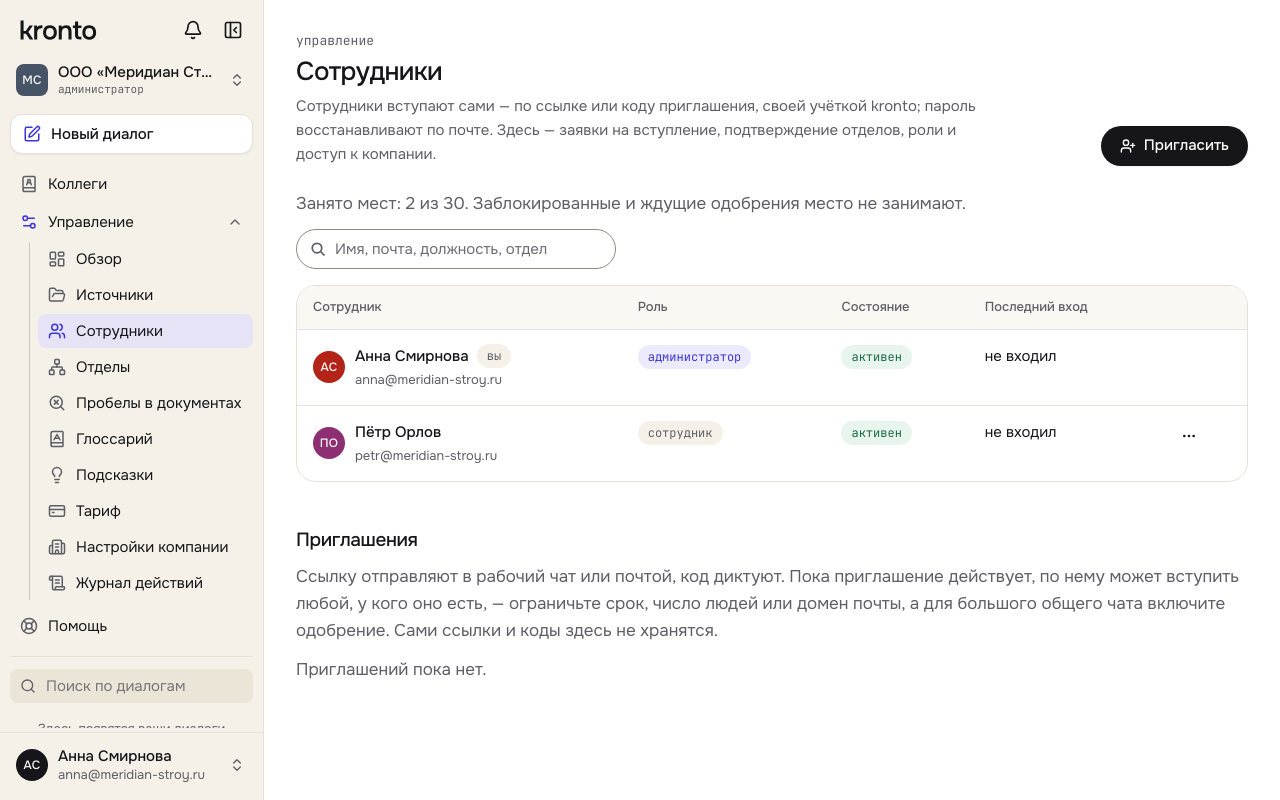
Scenario: люди компании › убрать из компании — после подтверждения; учётка остаётся, место освобождается
Check: the text "Пётр Орлов" is shown, box [355, 420, 441, 444]
Click the button named "Действия: Пётр Орлов". click: x=1189, y=436
box: [1173, 420, 1205, 452]
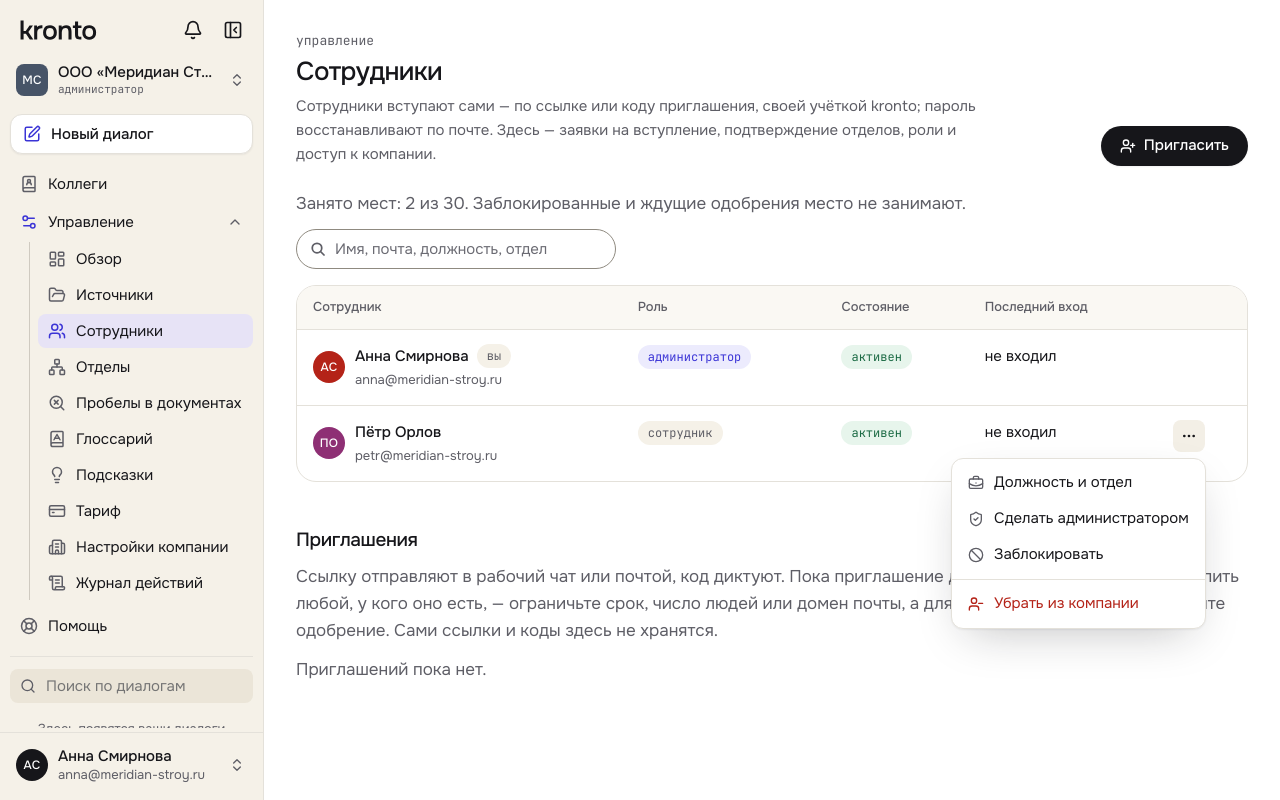
Click the menu item "Убрать из компании". click: x=1053, y=603
box: [968, 593, 1139, 613]
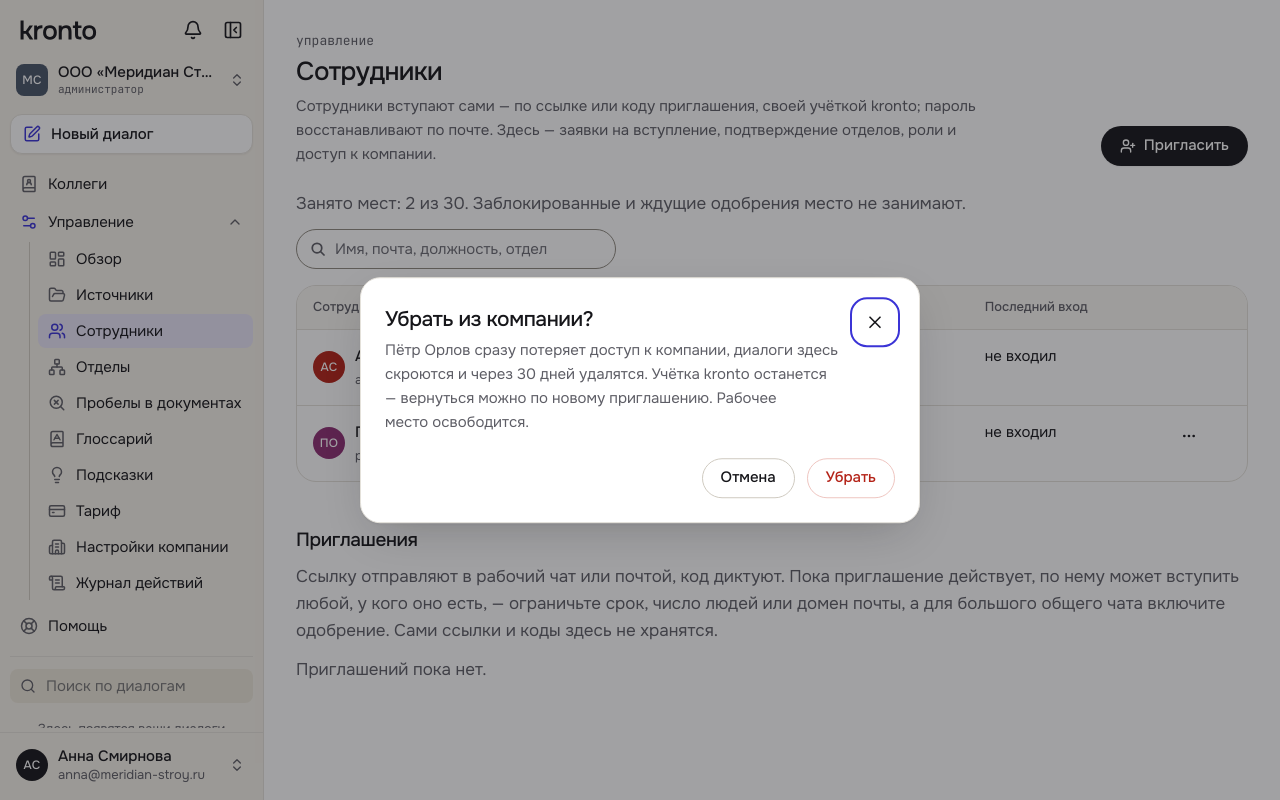
Check: the dialog "Убрать из компании?" shows "Учётка kronto останется", box [385, 340, 838, 432]
Check: the dialog "Убрать из компании?" shows "Рабочее место освободится", box [385, 340, 838, 432]
Click the button "Убрать". click: x=851, y=478
box: [807, 458, 895, 498]
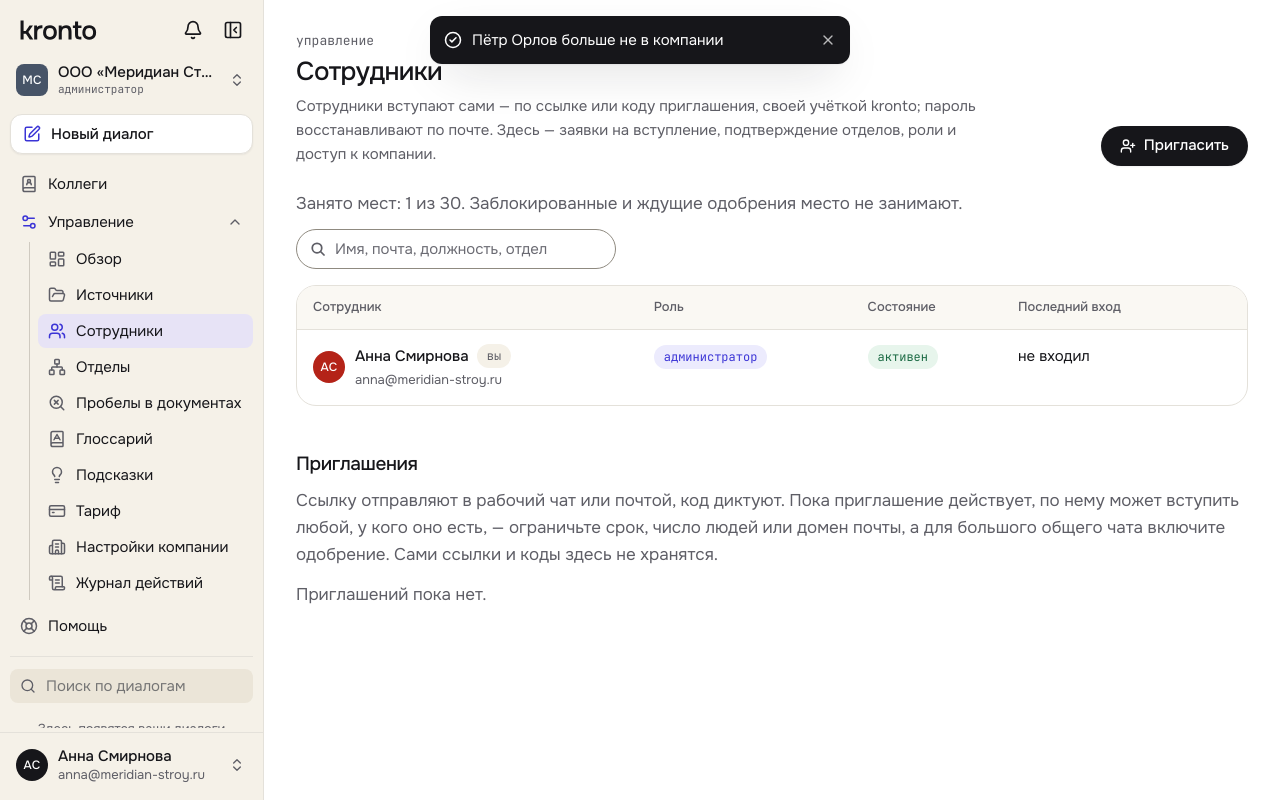
Check: the text "Пётр Орлов больше не в компании" is shown, box [472, 30, 723, 50]
Check: the dialog is gone
